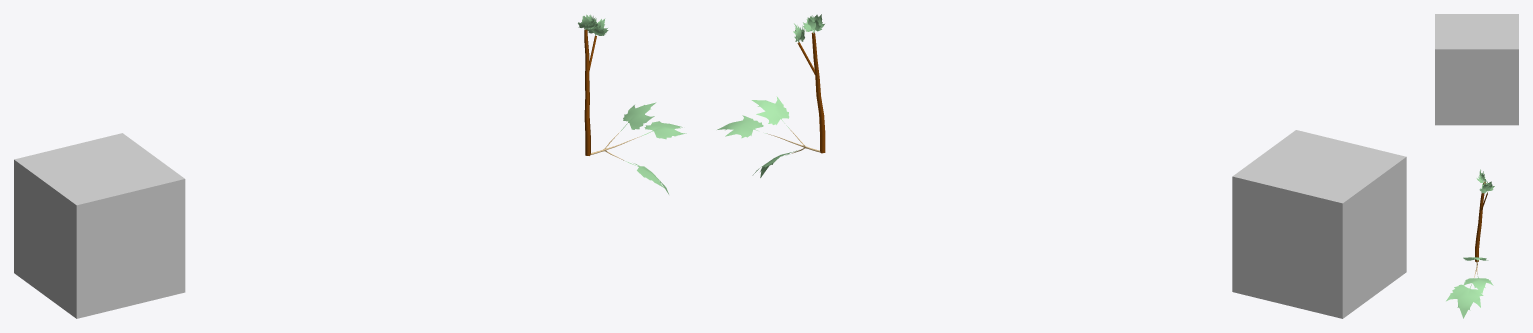
Rendered from FinalTree1.fbx.
3 renders of one model, left to right at view 1: azimuth 30°, elevation 25°; view 2: azimuth 150°, elevation 25°; view 3: azimuth 270°, elevation 25°, orthographic. The views are drawn at different scales.
Parts seen in each view (by area): view 1: Cube, Árbol, palmate.003; view 2: Cube, Árbol, palmate.003, palmate.001; view 3: Cube, palmate.002, Árbol, palmate.001, palmate.003.
Boxes of the visible parts, x1,y1,x2,y2 form: Cube: [14, 133, 185, 318]; Árbol: [584, 29, 596, 155]; palmate.003: [620, 102, 656, 131]; Cube: [1232, 130, 1406, 318]; Árbol: [797, 32, 825, 153]; palmate.003: [751, 96, 789, 128]; palmate.001: [717, 115, 766, 138]; Cube: [1435, 14, 1518, 125]; palmate.002: [1446, 284, 1483, 318]; Árbol: [1475, 181, 1487, 261]; palmate.001: [1463, 276, 1493, 293]; palmate.003: [1463, 257, 1488, 261].
Size of the model in its own units: 1185 by 333 by 200.
